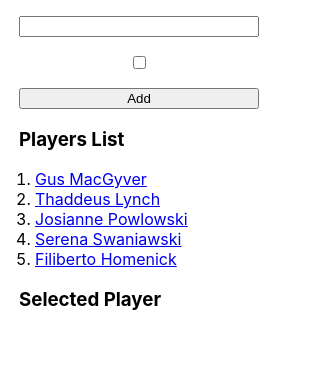
Test case: should show error status when clicking link and loading player data fails
What coordinates should you click on to do the following:
click the link "Gus MacGyver"
I would click on:
 (91, 179)
Its box is x1=35 y1=169 x2=147 y2=189.
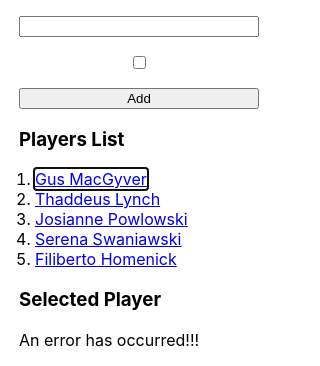
Result: the text "An error has occurred!!!" is shown at x1=19 y1=330 x2=199 y2=350
